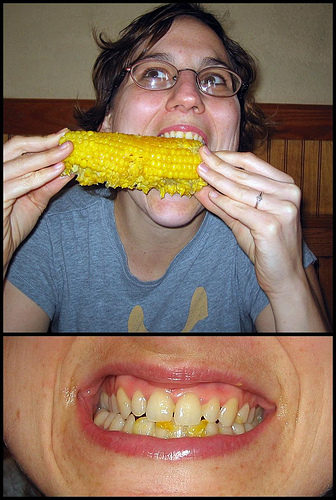corn: (55, 129, 203, 193)
